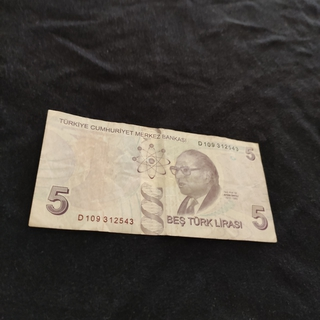5TLBack: (28, 108, 278, 243)
